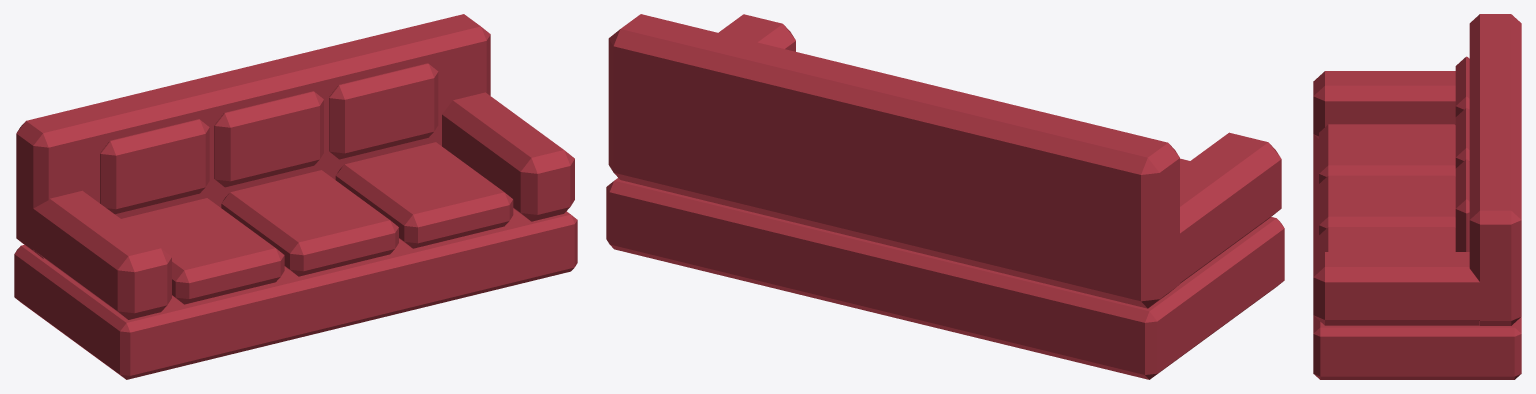
File: sofa.glb
3 views of the same model, side by side, from view 1: azimuth 30°, elevation 25°; view 2: azimuth 150°, elevation 25°; view 3: azimuth 270°, elevation 25° (orthographic). The views are drawn at different scales.
Parts seen in each view (by area): view 1: sofa; view 2: sofa; view 3: sofa.
Part boxes in pixels (x1=…): sofa: x1=14, y1=14, x2=577, y2=379; sofa: x1=606, y1=14, x2=1284, y2=379; sofa: x1=1313, y1=14, x2=1521, y2=379.
Bounding box in the file's own units: 4.2 × 1.6 × 1.8.
